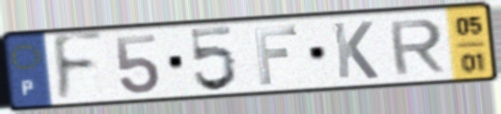5: (188, 23, 241, 94), (111, 32, 162, 96)
F: (50, 29, 106, 107), (251, 24, 301, 88)
K: (330, 19, 382, 81)
R: (385, 17, 448, 77)
